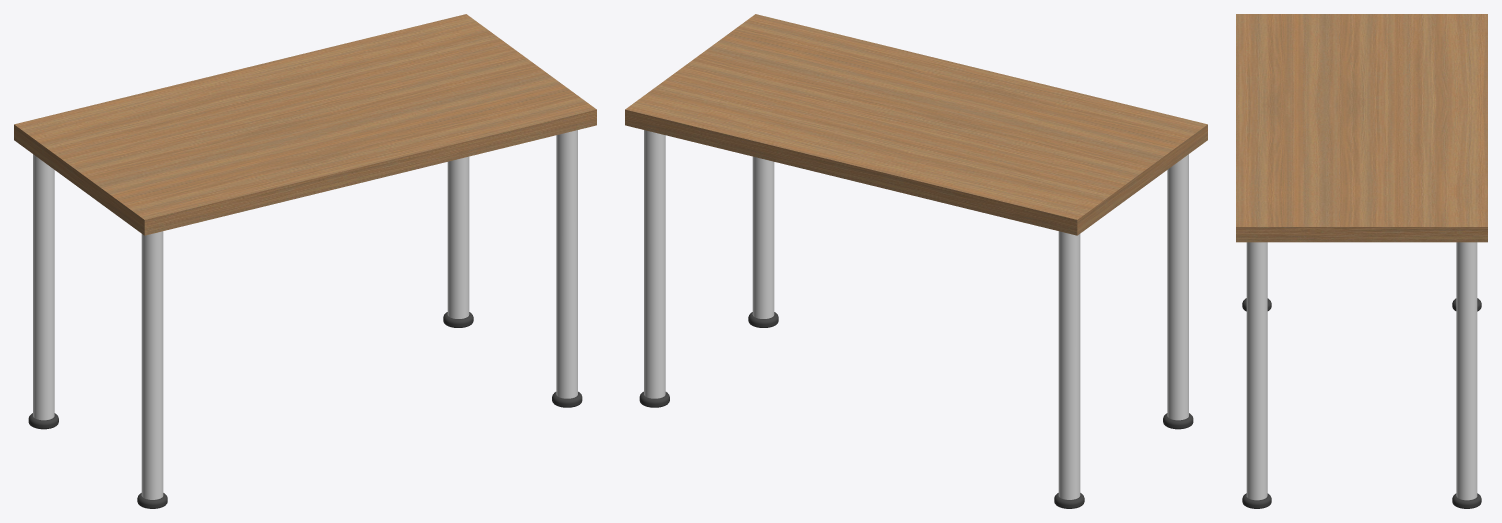
The model's file is coral_desk1.glb.
3 renders of one model, left to right at view 1: azimuth 30°, elevation 25°; view 2: azimuth 150°, elevation 25°; view 3: azimuth 270°, elevation 25°, orthographic. The views are drawn at different scales.
Parts seen in each view (by area): view 1: C-laminated board, _C-Component#1 (Loose Mesh), _C-Component#1 (Loose Mesh).003, _C-Component#1 (Loose Mesh).001, _C-Component#1 (Loose Mesh).002; view 2: C-laminated board, _C-Component#1 (Loose Mesh).001, _C-Component#1 (Loose Mesh).002, _C-Component#1 (Loose Mesh), _C-Component#1 (Loose Mesh).003; view 3: C-laminated board, _C-Component#1 (Loose Mesh).002, _C-Component#1 (Loose Mesh).003, G-Object.002, G-Object.003.
Boxes of the visible parts, left/top/right/bottom form: C-laminated board: left=14, top=14, right=596, bottom=235; _C-Component#1 (Loose Mesh): left=141, top=231, right=163, bottom=499; _C-Component#1 (Loose Mesh).003: left=556, top=130, right=577, bottom=398; _C-Component#1 (Loose Mesh).001: left=33, top=154, right=54, bottom=420; _C-Component#1 (Loose Mesh).002: left=447, top=156, right=469, bottom=318; C-laminated board: left=625, top=14, right=1207, bottom=235; _C-Component#1 (Loose Mesh).001: left=1058, top=231, right=1080, bottom=499; _C-Component#1 (Loose Mesh).002: left=644, top=130, right=665, bottom=398; _C-Component#1 (Loose Mesh): left=1167, top=154, right=1188, bottom=420; _C-Component#1 (Loose Mesh).003: left=752, top=156, right=774, bottom=318; C-laminated board: left=1236, top=14, right=1487, bottom=242; _C-Component#1 (Loose Mesh).002: left=1456, top=242, right=1477, bottom=500; _C-Component#1 (Loose Mesh).003: left=1246, top=242, right=1267, bottom=500; G-Object.002: left=1452, top=493, right=1481, bottom=508; G-Object.003: left=1242, top=493, right=1271, bottom=508.
Size of the model in its own units: 1.2 by 0.75 by 0.6.
Materials: 3 (1 with a texture image).
